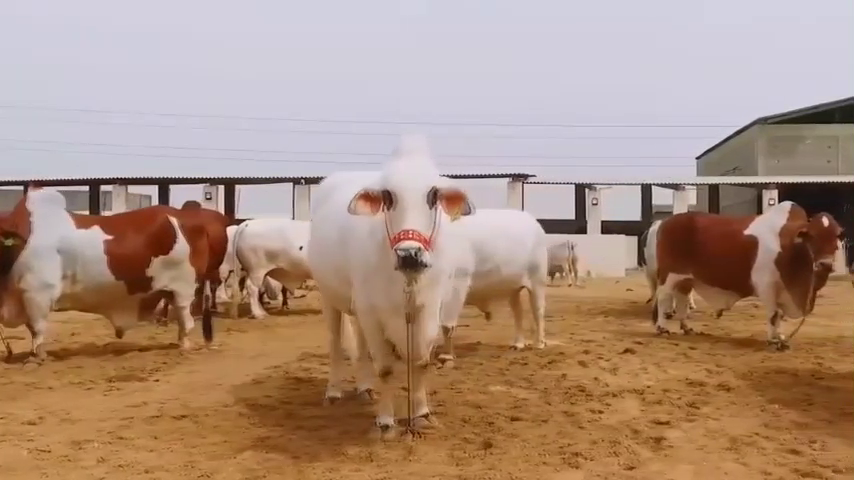bo: (302, 120, 449, 437), (2, 181, 218, 371), (635, 193, 849, 364), (443, 184, 551, 352), (228, 209, 312, 327), (542, 225, 585, 288)
